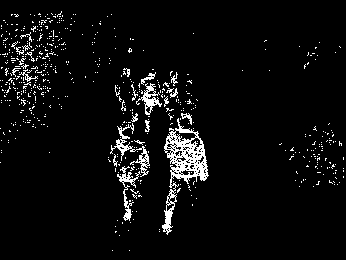person: (171, 114, 209, 235), (112, 122, 148, 223), (115, 66, 140, 121), (144, 66, 162, 119), (166, 67, 181, 112)
